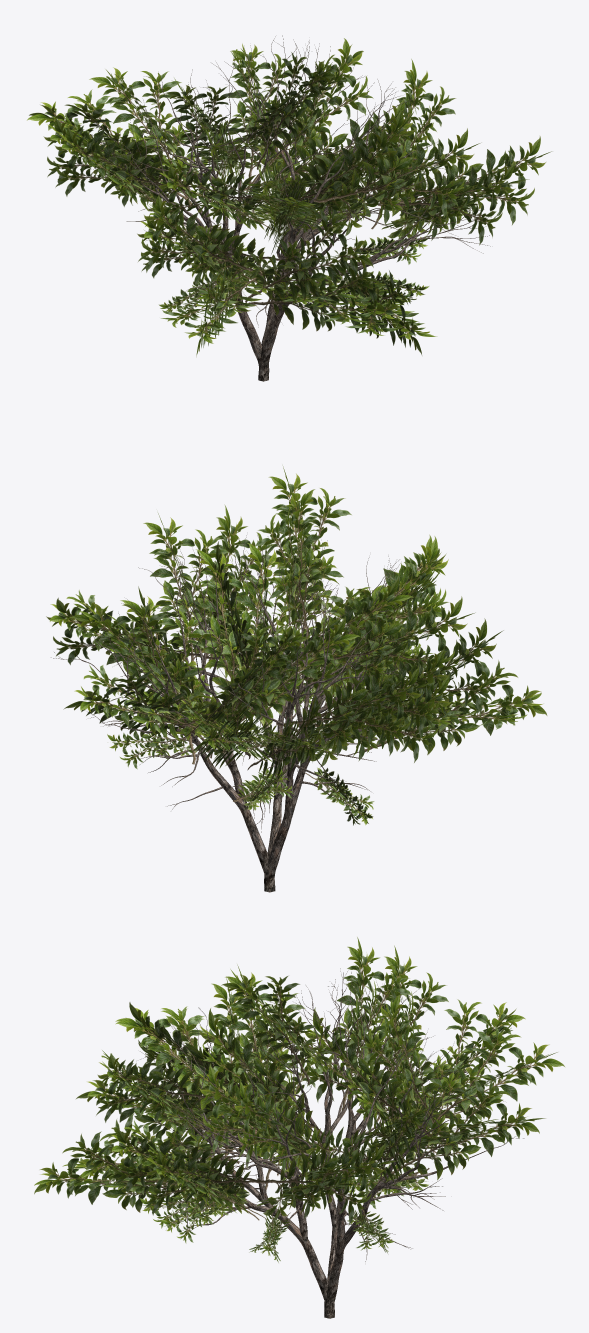
Rendered from grass_bush.glb.
3 renders of one model, top to bottom at view 1: azimuth 30°, elevation 25°; view 2: azimuth 150°, elevation 25°; view 3: azimuth 270°, elevation 25°, orthographic. The views are drawn at different scales.
Parts seen in each view (by area): view 1: tree, Realistic Green Foliage Branch.010, Realistic Green Foliage Branch.002, Realistic Green Foliage Branch.021, Realistic Green Foliage Branch.023, Realistic Green Foliage Branch.003, Realistic Green Foliage Branch.009, Realistic Green Foliage Branch.015, Realistic Green Foliage Branch.013, Realistic Green Foliage Branch.005, Realistic Green Foliage Branch.032, Realistic Green Foliage Branch.014 (+18 smaller); view 2: tree, Realistic Green Foliage Branch.011, Realistic Green Foliage Branch.015, Realistic Green Foliage Branch.005, Realistic Green Foliage Branch.014, Realistic Green Foliage Branch.032, Realistic Green Foliage Branch.017, Realistic Green Foliage Branch.001, Realistic Green Foliage Branch.031, Realistic Green Foliage Branch.008, Realistic Green Foliage Branch.020, Realistic Green Foliage Branch.010 (+16 smaller); view 3: tree, Realistic Green Foliage Branch.014, Realistic Green Foliage Branch.022, Realistic Green Foliage Branch.020, Realistic Green Foliage Branch.013, Realistic Green Foliage Branch.006, Realistic Green Foliage Branch.010, Realistic Green Foliage Branch, Realistic Green Foliage Branch.023, Realistic Green Foliage Branch.032, Realistic Green Foliage Branch.008, Realistic Green Foliage Branch.031 (+20 smaller).
Part boxes in pixels (<box>): tree: <box>89,35,491,381</box>; Realistic Green Foliage Branch.010: <box>313,128,480,236</box>; Realistic Green Foliage Branch.002: <box>245,258,414,332</box>; Realistic Green Foliage Branch.021: <box>239,208,380,304</box>; Realistic Green Foliage Branch.023: <box>55,125,203,226</box>; Realistic Green Foliage Branch.003: <box>138,194,262,309</box>; Realistic Green Foliage Branch.009: <box>381,161,529,245</box>; Realistic Green Foliage Branch.015: <box>243,38,373,193</box>; Realistic Green Foliage Branch.013: <box>89,67,218,206</box>; Realistic Green Foliage Branch.005: <box>157,156,283,235</box>; Realistic Green Foliage Branch.032: <box>229,52,338,169</box>; Realistic Green Foliage Branch.014: <box>227,43,299,192</box>; tree: <box>51,535,427,892</box>; Realistic Green Foliage Branch.011: <box>276,665,434,763</box>; Realistic Green Foliage Branch.015: <box>70,603,226,752</box>; Realistic Green Foliage Branch.005: <box>305,596,475,701</box>; Realistic Green Foliage Branch.014: <box>63,665,226,741</box>; Realistic Green Foliage Branch.032: <box>255,489,325,640</box>; Realistic Green Foliage Branch.017: <box>195,541,274,725</box>; Realistic Green Foliage Branch.001: <box>364,660,547,755</box>; Realistic Green Foliage Branch.031: <box>183,624,307,758</box>; Realistic Green Foliage Branch.008: <box>143,513,230,675</box>; Realistic Green Foliage Branch.020: <box>182,616,360,759</box>; Realistic Green Foliage Branch.010: <box>268,466,351,643</box>; tree: <box>131,968,524,1318</box>; Realistic Green Foliage Branch.014: <box>374,1078,545,1182</box>; Realistic Green Foliage Branch.022: <box>257,1142,398,1225</box>; Realistic Green Foliage Branch.020: <box>304,1007,436,1160</box>; Realistic Green Foliage Branch.013: <box>389,1025,564,1153</box>; Realistic Green Foliage Branch.006: <box>115,1004,283,1134</box>; Realistic Green Foliage Branch.010: <box>96,1050,221,1130</box>; Realistic Green Foliage Branch: <box>34,1131,224,1213</box>; Realistic Green Foliage Branch.023: <box>329,937,411,1111</box>; Realistic Green Foliage Branch.032: <box>221,969,332,1084</box>; Realistic Green Foliage Branch.008: <box>144,1143,269,1220</box>; Realistic Green Foliage Branch.031: <box>359,994,445,1153</box>.
Size of the model in its own units: 13.46 by 10.39 by 14.14.
2 materials, 2 textured.
